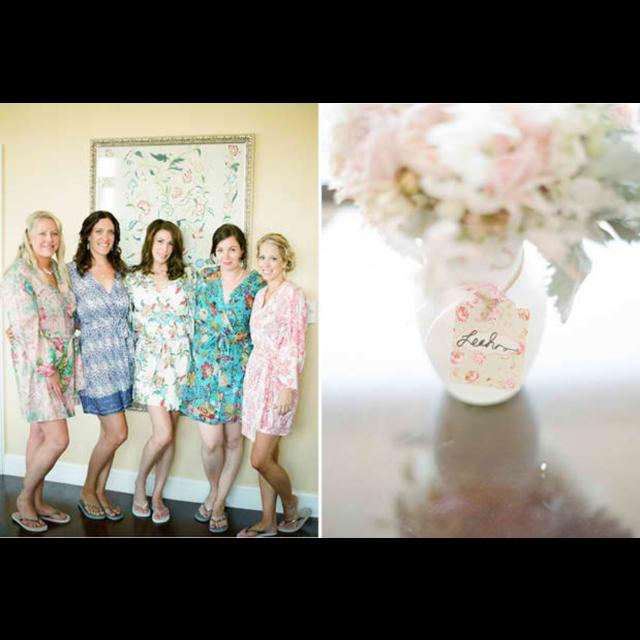Flower: (317, 102, 639, 318), (2, 262, 308, 438), (501, 342, 525, 366), (500, 376, 520, 388), (470, 351, 488, 364), (463, 367, 479, 381), (190, 218, 202, 236), (135, 198, 151, 210), (170, 185, 182, 201), (180, 168, 192, 184), (446, 365, 458, 381), (226, 144, 238, 156), (450, 350, 462, 362), (194, 200, 204, 213), (485, 374, 493, 382)
